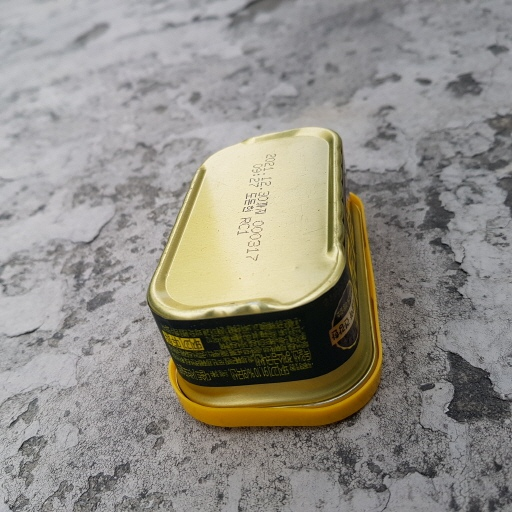Metal_2: (149, 121, 388, 428)
